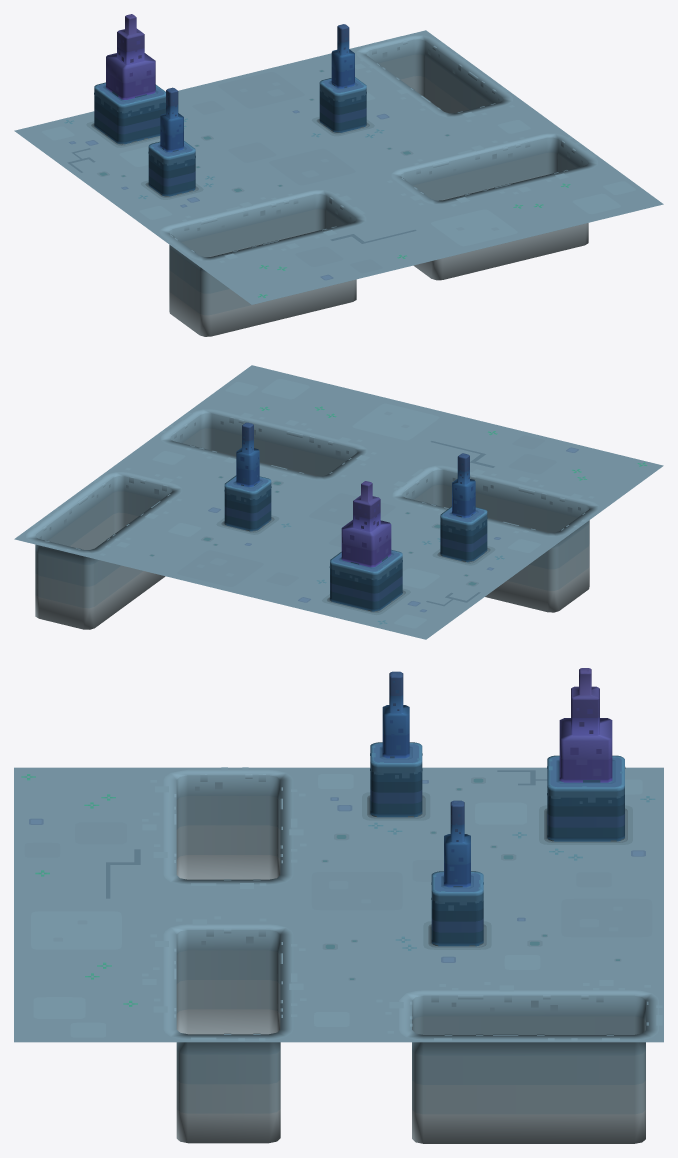
File: C_mountain2_05.fbx
3 renders of one model, top to bottom at view 1: azimuth 30°, elevation 25°; view 2: azimuth 150°, elevation 25°; view 3: azimuth 270°, elevation 25°, orthographic. The views are drawn at different scales.
Visible parts, largest first — view 1: C_mountain2_05; view 2: C_mountain2_05; view 3: C_mountain2_05.
Part boxes in pixels (x1,y1,x2,y2): C_mountain2_05: (14, 14, 663, 336); C_mountain2_05: (14, 365, 663, 639); C_mountain2_05: (14, 668, 663, 1143).
Bounding box in the file's own units: 50 × 22.52 × 50.
